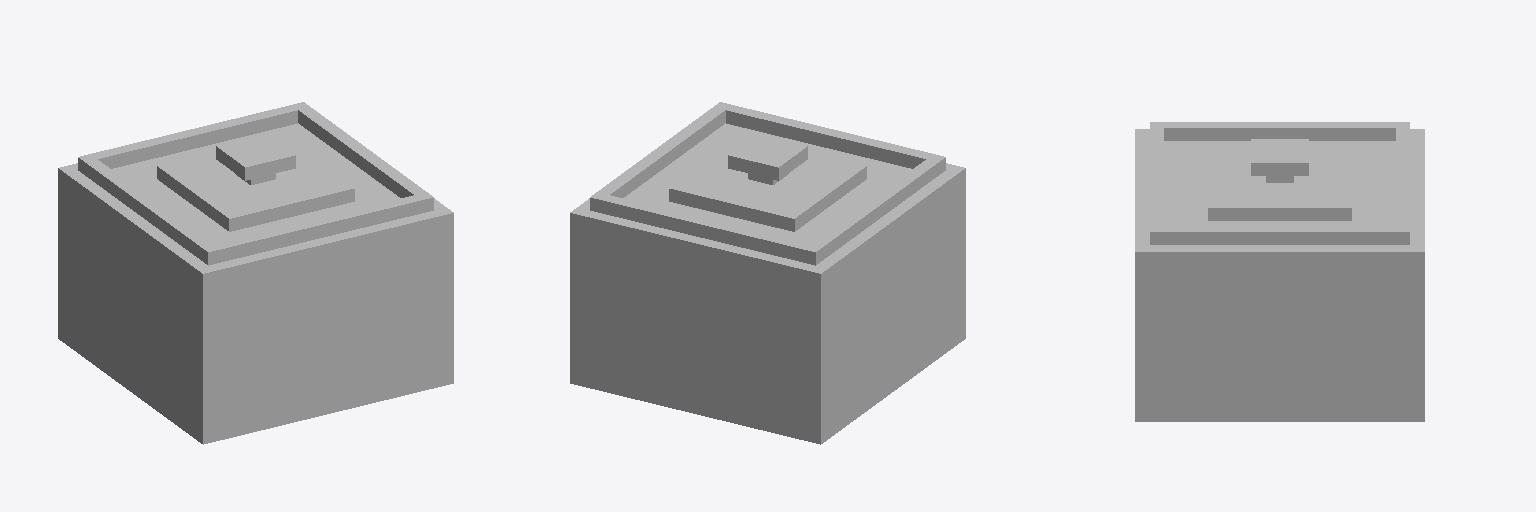
File: clayCookingPot.obj
3 views of the same model, side by side, from view 1: azimuth 30°, elevation 25°; view 2: azimuth 150°, elevation 25°; view 3: azimuth 270°, elevation 25° (orthographic).
Visible parts, largest first — view 1: westFace, northFace, topFace; view 2: eastFace, northFace, topFace; view 3: southFace, topFace.
Boxes of the visible parts, x1=… form: westFace: x1=98, y1=110, x2=453, y2=444; northFace: x1=58, y1=110, x2=413, y2=443; topFace: x1=59, y1=102, x2=453, y2=273; eastFace: x1=570, y1=110, x2=925, y2=444; northFace: x1=610, y1=110, x2=965, y2=443; topFace: x1=570, y1=102, x2=964, y2=273; southFace: x1=1135, y1=128, x2=1424, y2=421; topFace: x1=1135, y1=122, x2=1424, y2=251.
Size of the model in its own units: 0.625 by 0.5 by 0.625.